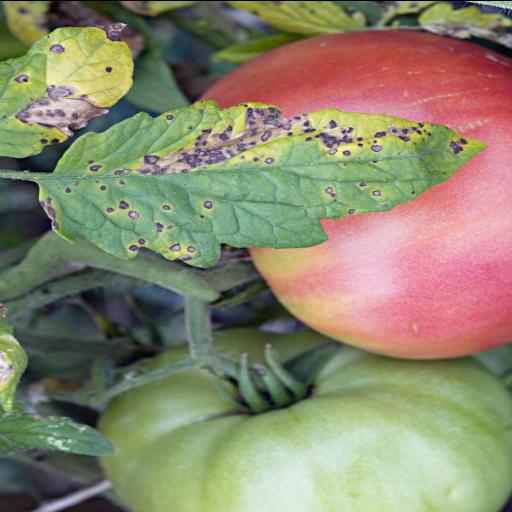Septoria: (32, 94, 480, 270), (0, 18, 139, 156)
